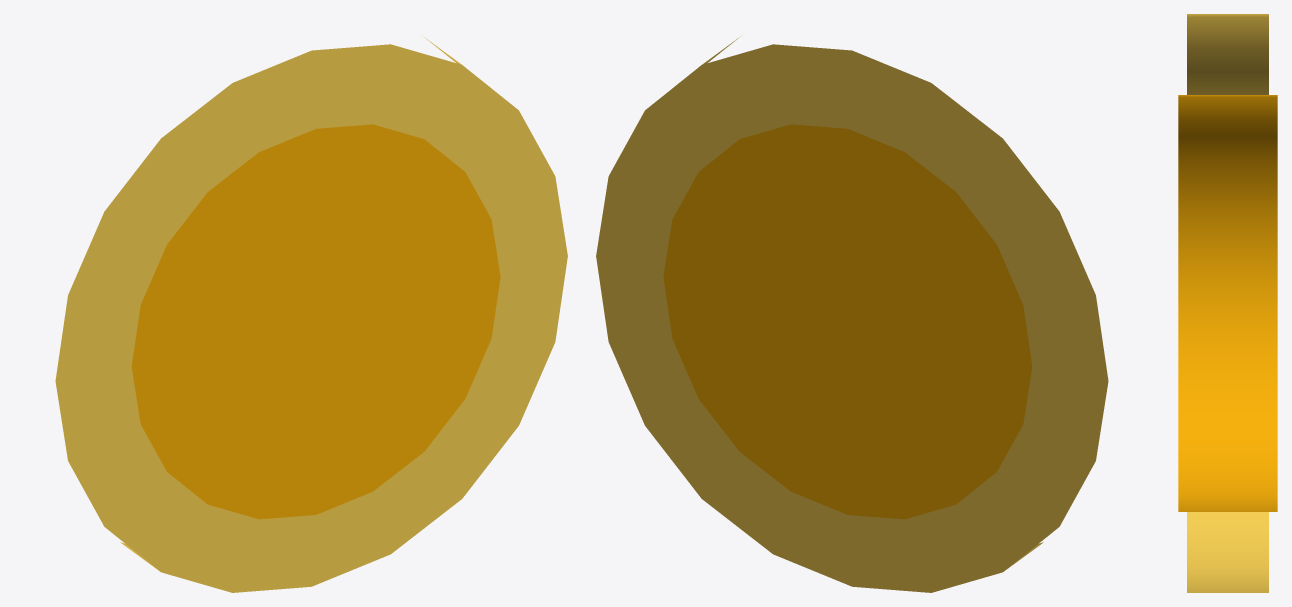
Rendered from coin.glb.
3 views of the same model, side by side, from view 1: azimuth 30°, elevation 25°; view 2: azimuth 150°, elevation 25°; view 3: azimuth 270°, elevation 25° (orthographic).
Parts seen in each view (by area): view 1: runner/coin; view 2: runner/coin; view 3: runner/coin.
Part boxes in pixels (x1,y1,x2,y2): runner/coin: (55,37,567,592); runner/coin: (596,37,1108,592); runner/coin: (1178,14,1277,592).
Bounding box in the file's own units: 1 × 1 × 0.1699.
